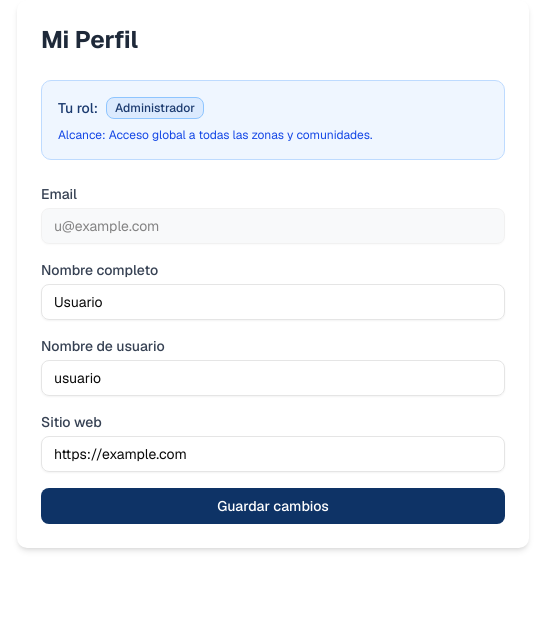
Test case: Perfil › actualiza datos del usuario, resultado=error
The image size is (547, 631).
Expected: the heading "Mi Perfil" is shown, [41,24,138,55]
Replace the text in the field labelled "Nombre completo" with "Nuevo Nombre" at (273, 302), box [41,284,505,320]
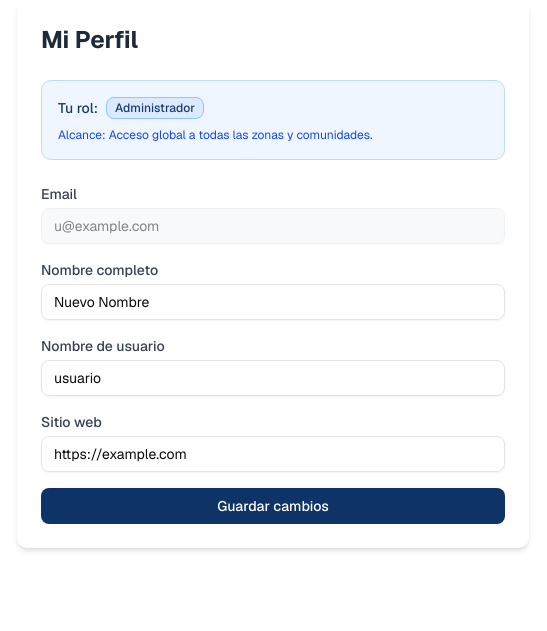
Replace the text in the field labelled "Nombre de usuario" with "nuevo" at (273, 378), box [41,360,505,396]
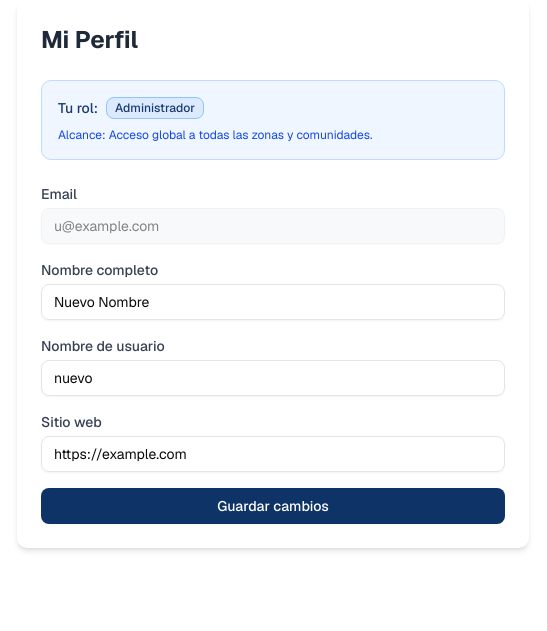
Replace the text in the field labelled "Sitio web" with "https://nuevo.example.com" at (273, 454), box [41,436,505,472]
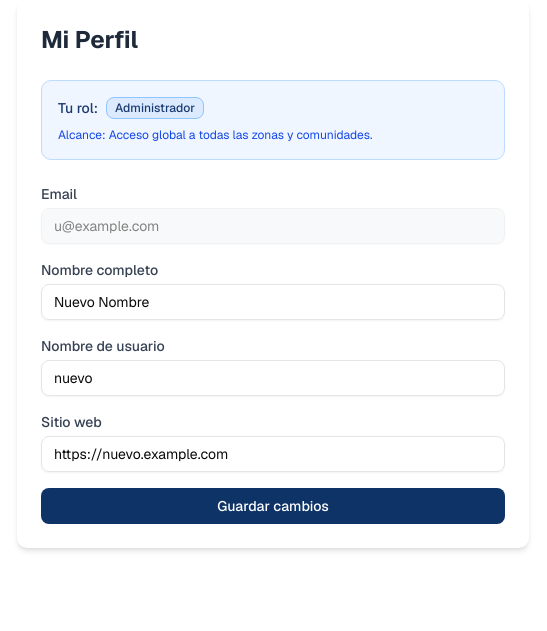
Click the button "Guardar cambios" at (273, 506), box [41,488,505,524]
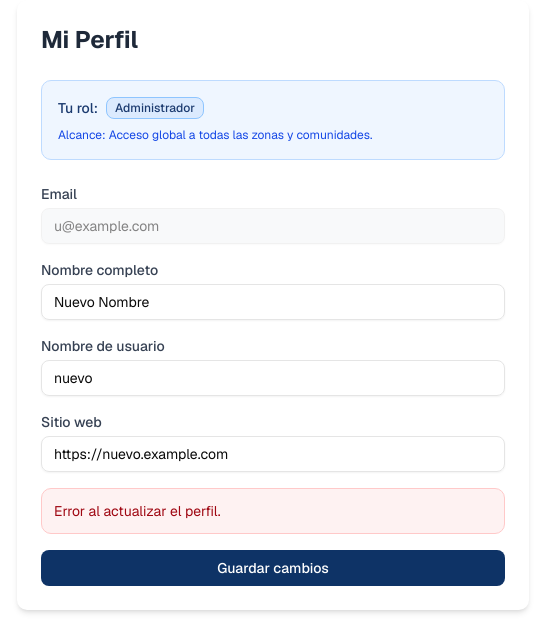
Expected: the text "Error al actualizar el perfil." is shown, [41,488,505,534]
